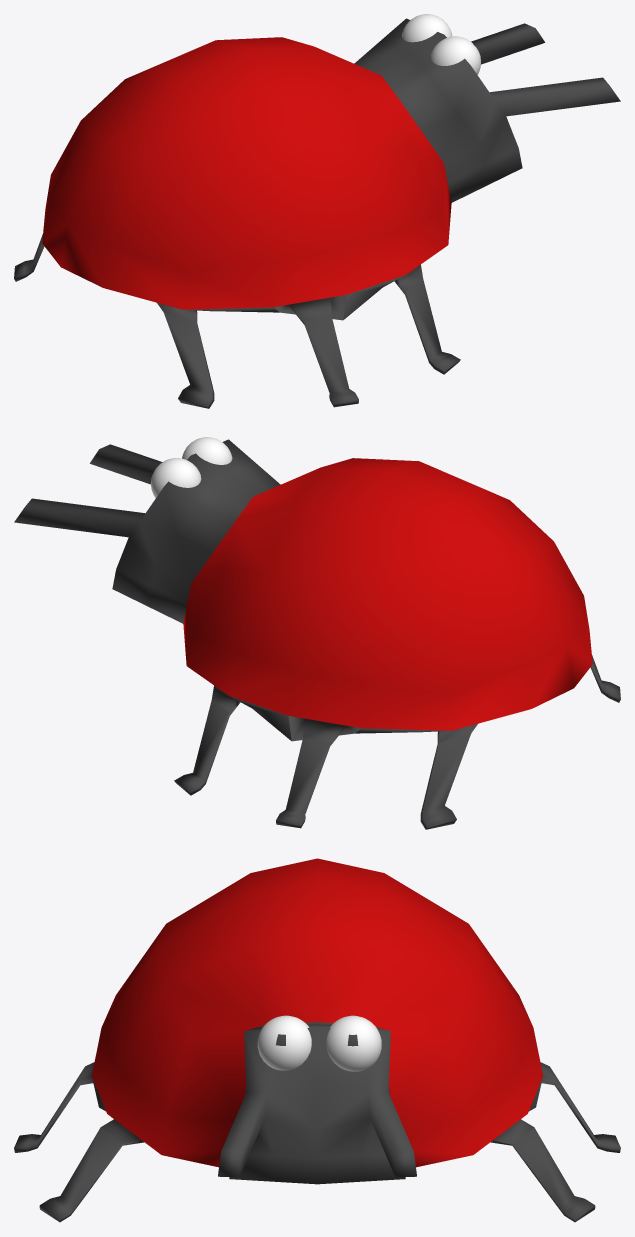
File: bug1.fbx
3 renders of one model, top to bottom at view 1: azimuth 30°, elevation 25°; view 2: azimuth 150°, elevation 25°; view 3: azimuth 270°, elevation 25°, orthographic. The views are drawn at different scales.
Visible parts, largest first — view 1: bottomandhead; view 2: bottomandhead; view 3: bottomandhead.
Boxes of the visible parts, box(x1,y1,x2,y2) form: bottomandhead: box(14, 14, 620, 408); bottomandhead: box(14, 437, 620, 829); bottomandhead: box(14, 858, 620, 1222).
Bounding box in the file's own units: 313 × 148 × 280.
